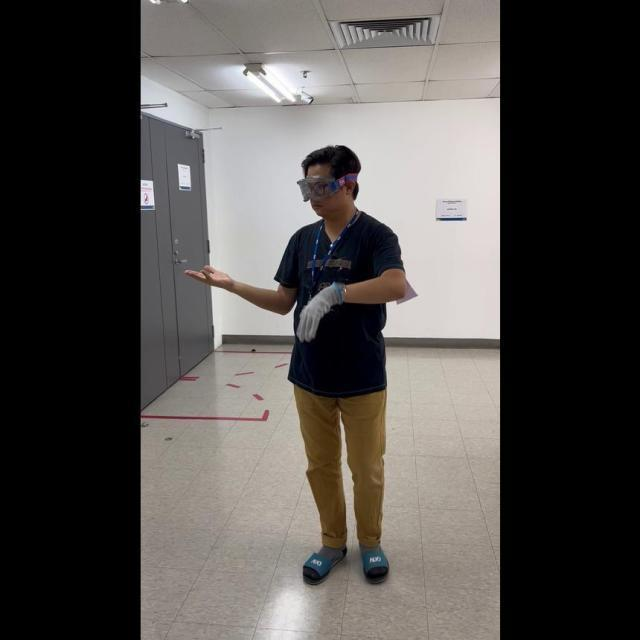bare_hand: (183, 260, 236, 288)
gloved_hand: (294, 277, 348, 342)
